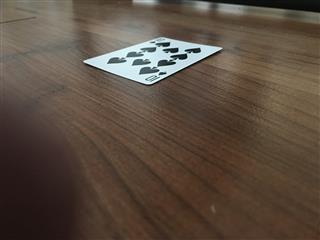TenOfSpades: (81, 35, 223, 85)
